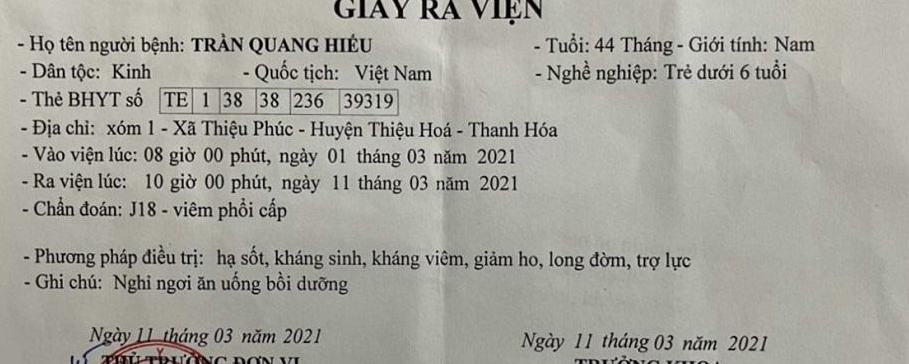add: (310, 117, 364, 141), (105, 118, 159, 139), (468, 118, 519, 140), (202, 118, 249, 140), (369, 118, 416, 140), (250, 117, 295, 139), (523, 119, 561, 142), (418, 118, 452, 141), (173, 118, 200, 138), (451, 119, 469, 140), (155, 117, 172, 138), (292, 118, 308, 139)
birth: (595, 31, 676, 59)
come_time: (477, 142, 519, 167), (355, 145, 401, 167), (229, 143, 271, 167), (276, 143, 318, 167), (432, 145, 468, 167), (166, 144, 198, 166), (323, 144, 351, 167), (200, 143, 226, 165), (141, 143, 167, 164), (404, 145, 429, 166)
country: (354, 62, 438, 86)
diagnostic: (216, 197, 256, 220), (173, 199, 213, 219), (258, 198, 289, 221), (128, 199, 159, 220), (159, 200, 171, 221)
id: (156, 84, 403, 117)
job: (696, 62, 738, 83), (753, 62, 790, 82), (665, 61, 696, 83), (736, 61, 754, 82)
name: (248, 33, 321, 57), (191, 33, 245, 59), (321, 33, 375, 56), (111, 59, 154, 83)
note: (296, 274, 350, 296), (221, 271, 263, 295), (113, 271, 154, 295), (155, 271, 193, 295), (266, 270, 294, 295), (196, 271, 218, 295)
out_time: (358, 171, 404, 194), (477, 173, 520, 196), (232, 172, 273, 193), (279, 172, 320, 193), (434, 174, 471, 193), (140, 170, 167, 192), (170, 171, 197, 193), (200, 171, 227, 193), (407, 171, 430, 194), (328, 171, 349, 192)
sex: (774, 29, 819, 60)
solution: (273, 246, 324, 271), (371, 247, 422, 271), (588, 246, 634, 271), (424, 246, 469, 271), (324, 247, 368, 271), (473, 245, 513, 270), (547, 246, 585, 271), (518, 244, 548, 271), (240, 245, 272, 269), (635, 246, 662, 273), (666, 247, 693, 274), (213, 247, 240, 270)
